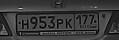license-plateSW: (15, 13, 100, 31)
